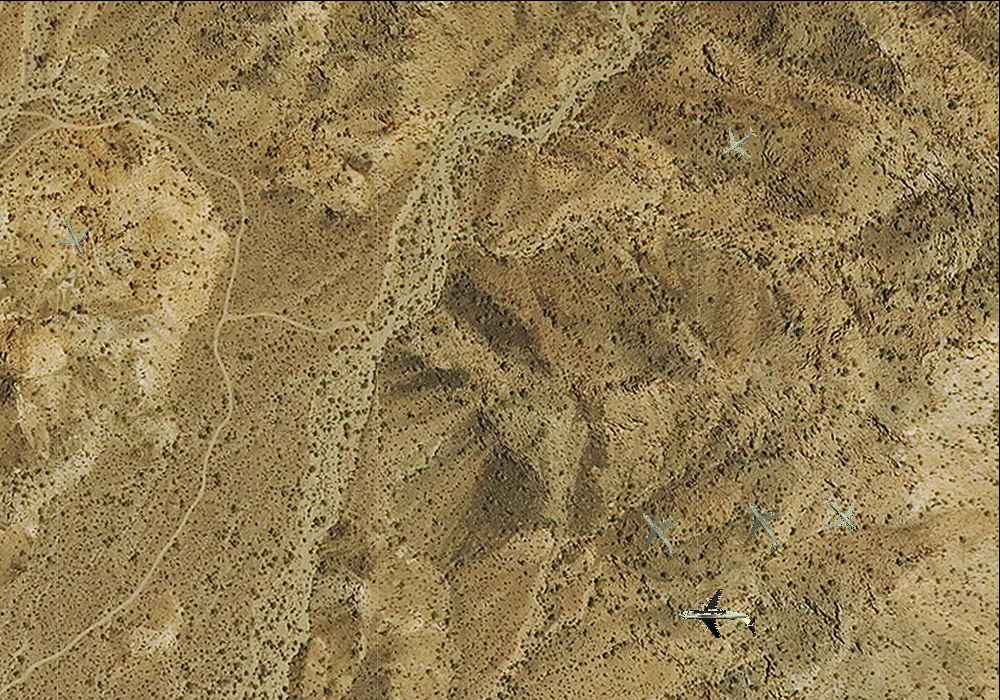plane: (621, 498, 695, 573), (677, 585, 757, 653), (727, 489, 799, 563), (811, 484, 872, 546), (710, 114, 766, 170), (45, 207, 100, 264)
